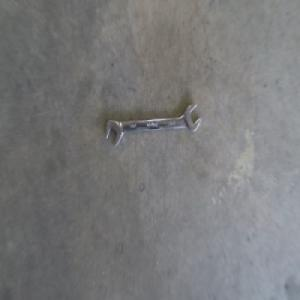Wrench: (103, 103, 201, 148)
